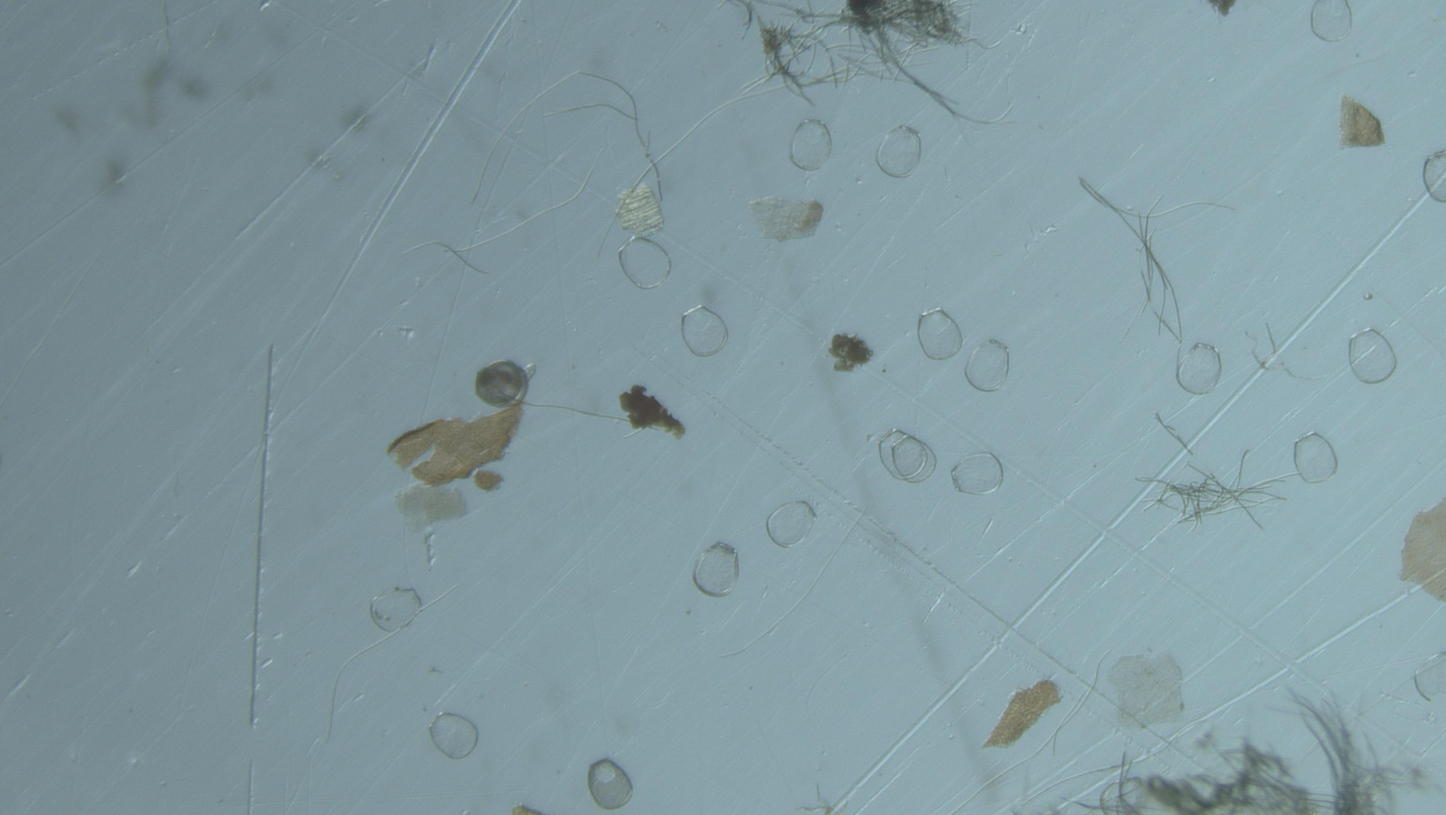dead: (878, 430, 935, 483), (1349, 328, 1398, 384), (618, 238, 672, 288), (692, 542, 739, 597), (681, 306, 729, 357), (587, 759, 634, 811), (964, 339, 1010, 392), (917, 308, 963, 360), (876, 126, 921, 179), (766, 501, 816, 548), (370, 588, 423, 632), (1178, 343, 1222, 396), (429, 713, 478, 759), (1294, 433, 1338, 484), (952, 453, 1003, 496), (790, 119, 832, 171), (1311, 0, 1353, 42), (1415, 652, 1446, 701), (1423, 150, 1446, 203)
live: (474, 360, 529, 409)
